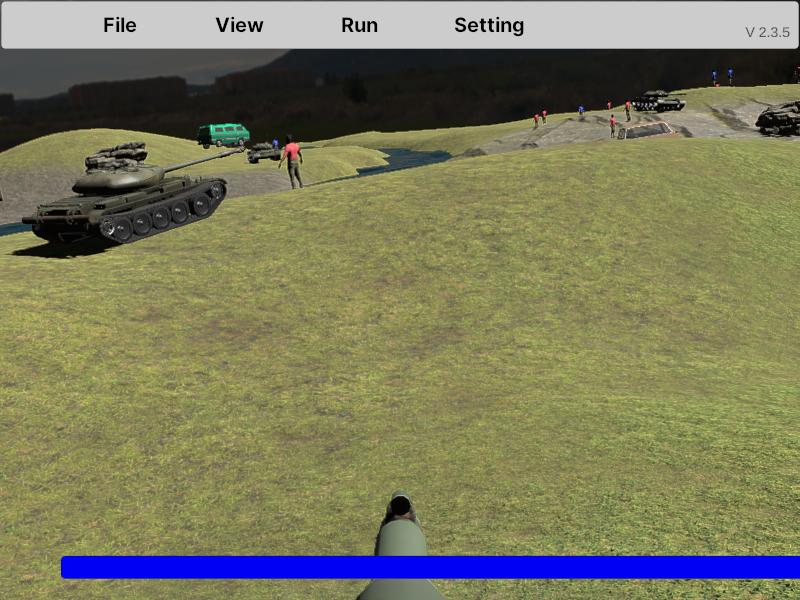Human: (279, 134, 304, 193)
Tank: (21, 148, 256, 247), (633, 90, 688, 112)
car: (197, 123, 250, 149)
